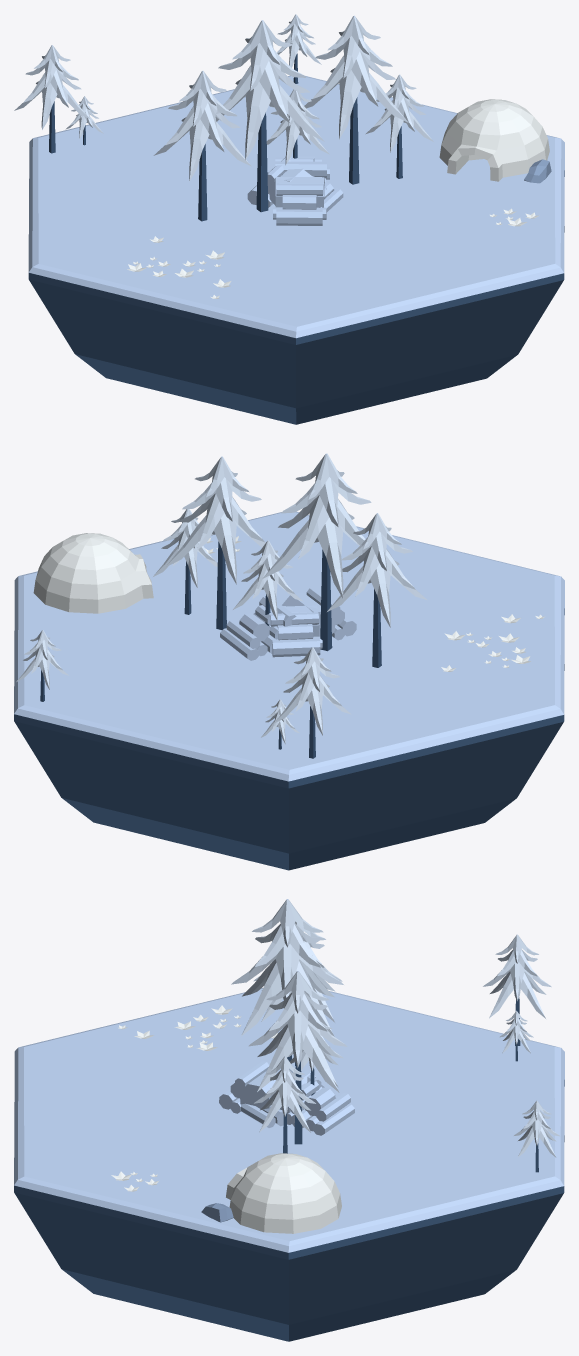
The model's file is Asset_Biome_Snow_01.fbx.
3 views of the same model, one above another, from view 1: azimuth 30°, elevation 25°; view 2: azimuth 150°, elevation 25°; view 3: azimuth 270°, elevation 25° (orthographic). The views are drawn at different scales.
Visible parts, largest first — view 1: Asset_Tile_Snow, PolySurface_Igloo_01, PolySurface_TreeSnow_01, PolySurface_TreeSnow_07, PolySurface_TreeSnow_06, PolySurface_TreeSnow_04, PolySurface_TreeSnow_02, PolySurface_TreeSnow_03, PolySurface_TreeSnow_08, pCylinder3, pCylinder5, pCylinder2 (+3 smaller); view 2: Asset_Tile_Snow, PolySurface_Igloo_01, PolySurface_TreeSnow_01, PolySurface_TreeSnow_07, PolySurface_TreeSnow_06, PolySurface_TreeSnow_04, PolySurface_TreeSnow_03, PolySurface_TreeSnow_02, PolySurface_TreeSnow_08, pCylinder3, PolySurface_TreeSnow_05, pCylinder4 (+2 smaller); view 3: Asset_Tile_Snow, PolySurface_Igloo_01, PolySurface_TreeSnow_01, PolySurface_TreeSnow_07, PolySurface_TreeSnow_04, PolySurface_TreeSnow_02, PolySurface_TreeSnow_08, PolySurface_TreeSnow_06, pCylinder2, PolySurface_TreeSnow_05.
Part boxes in pixels (left/top/right/bottom): Asset_Tile_Snow: left=28, top=75, right=564, bottom=424; PolySurface_Igloo_01: left=439, top=99, right=549, bottom=181; PolySurface_TreeSnow_01: left=215, top=20, right=324, bottom=212; PolySurface_TreeSnow_07: left=304, top=15, right=408, bottom=184; PolySurface_TreeSnow_06: left=153, top=71, right=251, bottom=221; PolySurface_TreeSnow_04: left=14, top=45, right=89, bottom=153; PolySurface_TreeSnow_02: left=365, top=74, right=433, bottom=178; PolySurface_TreeSnow_03: left=266, top=89, right=329, bottom=164; PolySurface_TreeSnow_08: left=277, top=14, right=321, bottom=83; pCylinder3: left=276, top=209, right=322, bottom=225; pCylinder5: left=276, top=183, right=323, bottom=195; pCylinder2: left=275, top=177, right=324, bottom=207; Asset_Tile_Snow: left=14, top=511, right=564, bottom=870; PolySurface_Igloo_01: left=33, top=533, right=153, bottom=613; PolySurface_TreeSnow_01: left=262, top=453, right=371, bottom=651; PolySurface_TreeSnow_07: left=165, top=456, right=277, bottom=629; PolySurface_TreeSnow_06: left=327, top=513, right=427, bottom=667; PolySurface_TreeSnow_04: left=273, top=647, right=351, bottom=758; PolySurface_TreeSnow_03: left=233, top=540, right=303, bottom=625; PolySurface_TreeSnow_02: left=153, top=509, right=217, bottom=614; PolySurface_TreeSnow_08: left=16, top=630, right=68, bottom=701; pCylinder3: left=272, top=638, right=320, bottom=657; PolySurface_TreeSnow_05: left=261, top=699, right=299, bottom=749; pCylinder4: left=277, top=624, right=313, bottom=640; Asset_Tile_Snow: left=14, top=988, right=564, bottom=1341; PolySurface_Igloo_01: left=226, top=1153, right=341, bottom=1233; PolySurface_TreeSnow_01: left=231, top=899, right=343, bottom=1061; PolySurface_TreeSnow_07: left=248, top=971, right=347, bottom=1144; PolySurface_TreeSnow_04: left=483, top=934, right=551, bottom=1045; PolySurface_TreeSnow_02: left=254, top=1056, right=315, bottom=1153; PolySurface_TreeSnow_08: left=514, top=1100, right=559, bottom=1172; PolySurface_TreeSnow_06: left=253, top=921, right=342, bottom=1065; pCylinder2: left=240, top=1068, right=280, bottom=1110; PolySurface_TreeSnow_05: left=499, top=1010, right=533, bottom=1061.
Size of the model in its own units: 436 by 258 by 378.
